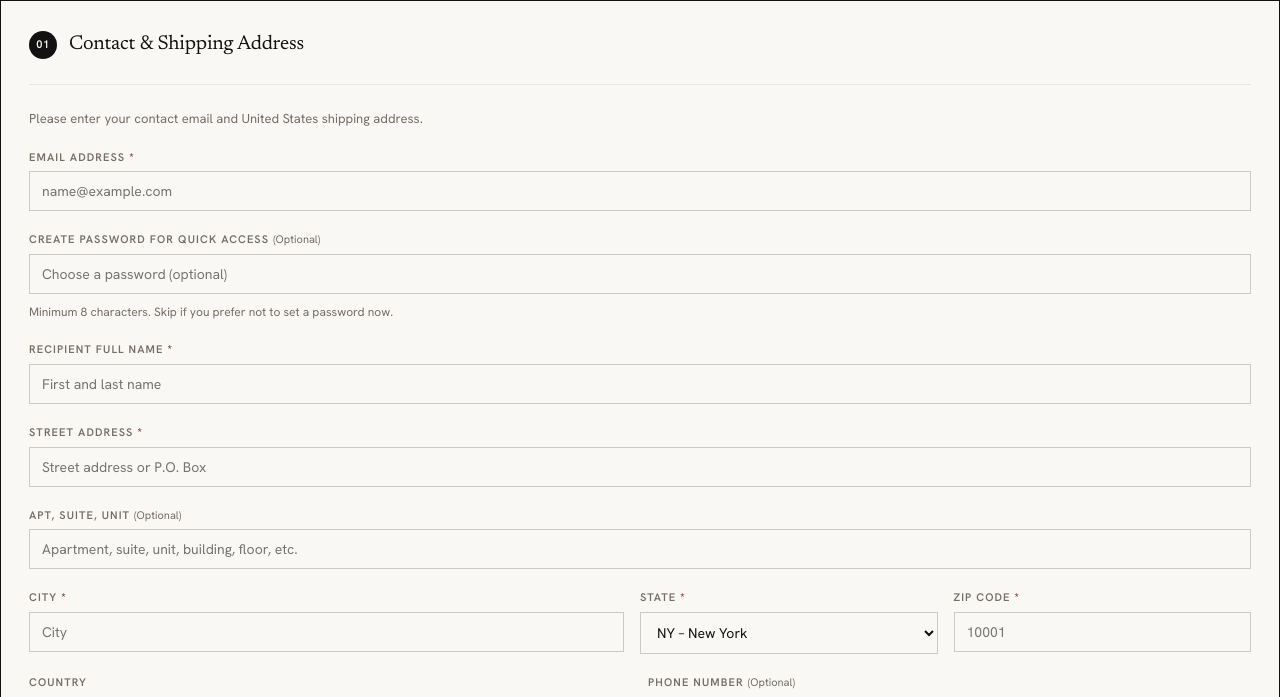
Test: ContactAndAddressForm › shows inline validation errors for invalid email and invalid ZIP
This screenshot has width=1280, height=697.
Type "invalid-email" into the field with test id "input-email". click: x=640, y=191
box: [29,171,1251,211]
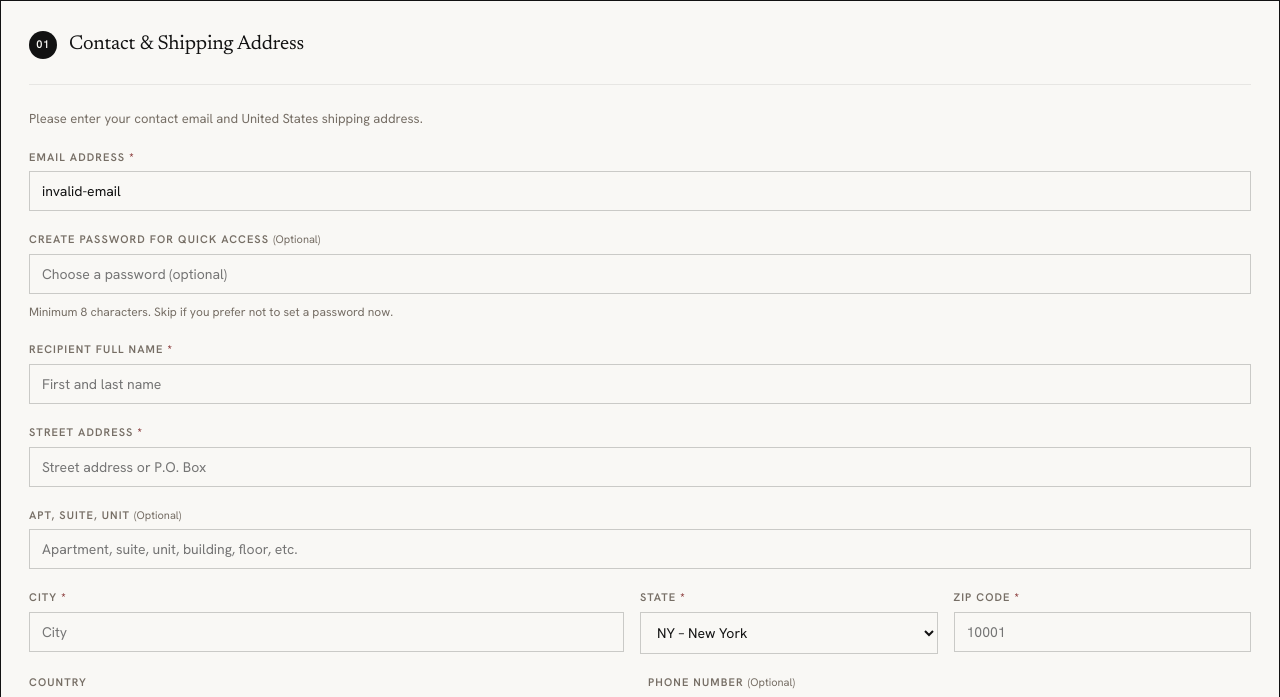
Type "Alexandra Vance" into the field with test id "input-recipient-name". click: x=640, y=384
box: [29,364,1251,404]
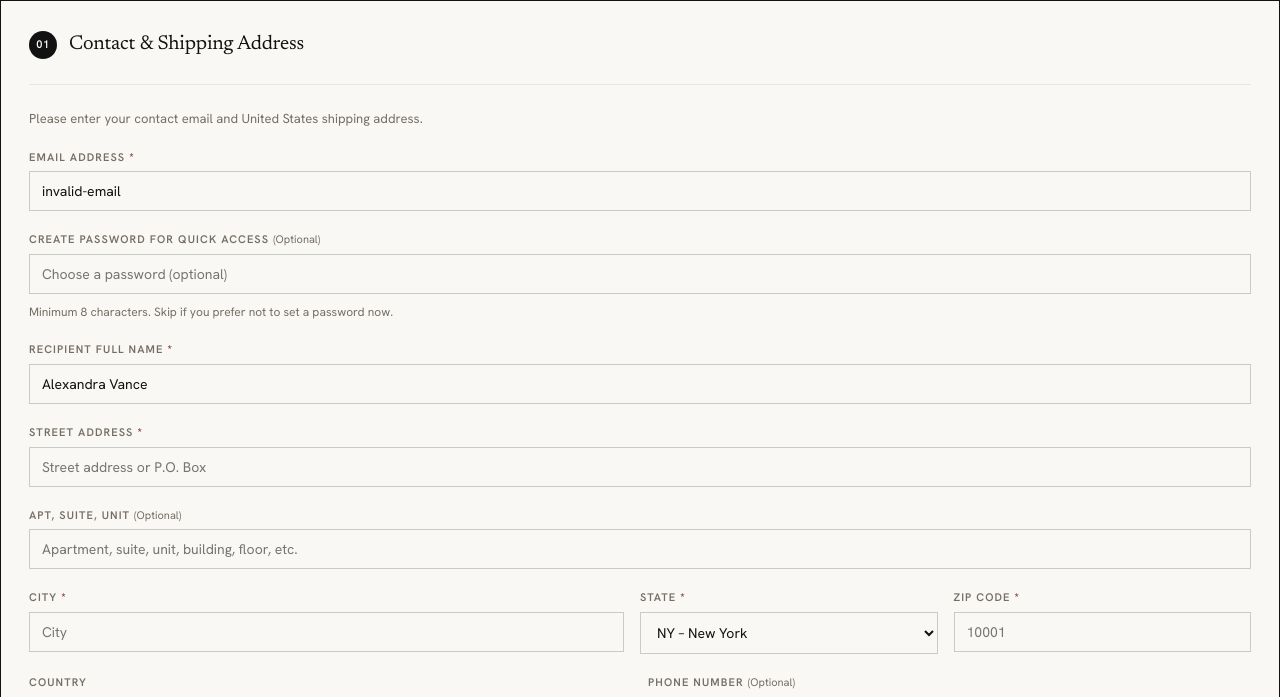
Type "123 Main St" into the field with test id "input-line1". click: x=640, y=467
box: [29,447,1251,487]
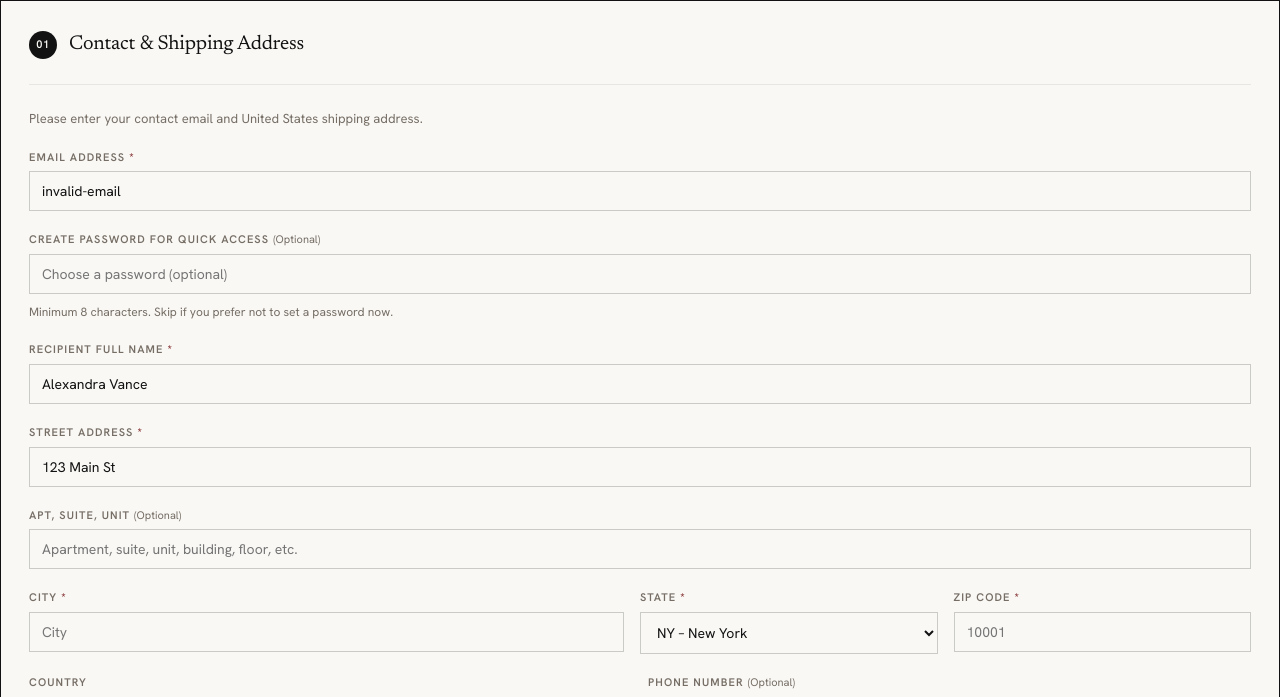
Type "New York" into the field with test id "input-city". click: x=326, y=632
box: [29,612,624,652]
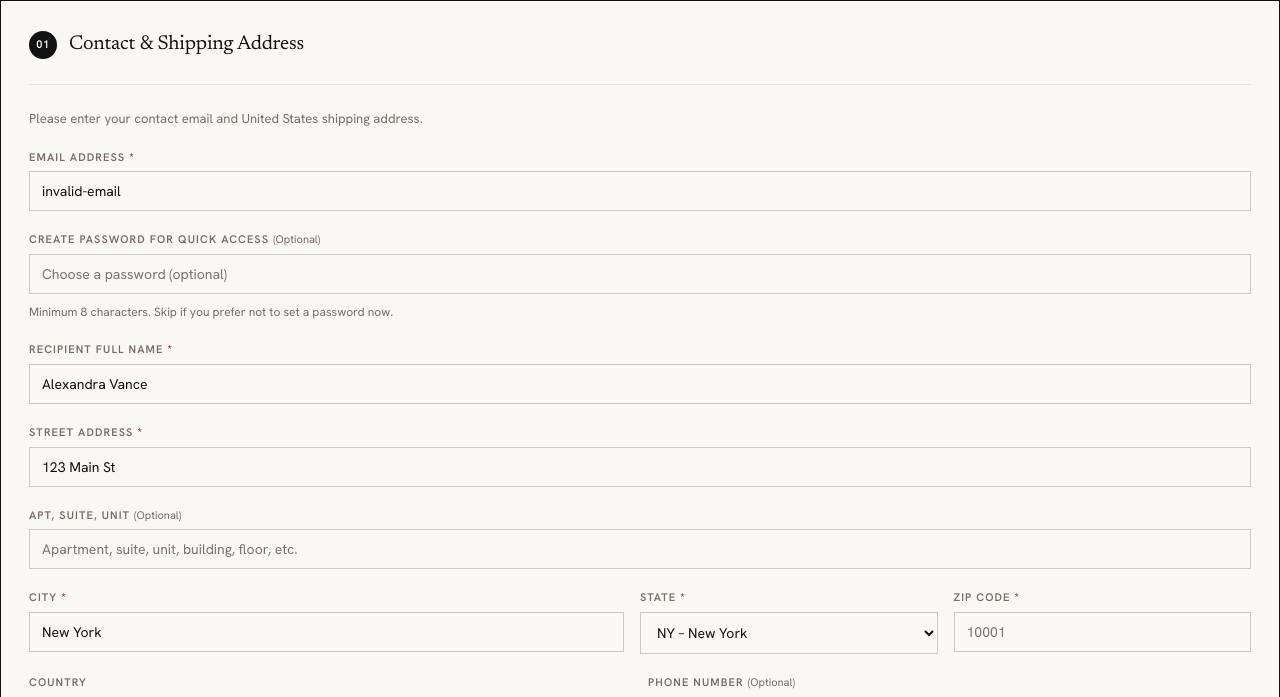
Type "abc" into the field with test id "input-zip". click: x=1102, y=632
box: [954,612,1251,652]
(page scrolled)
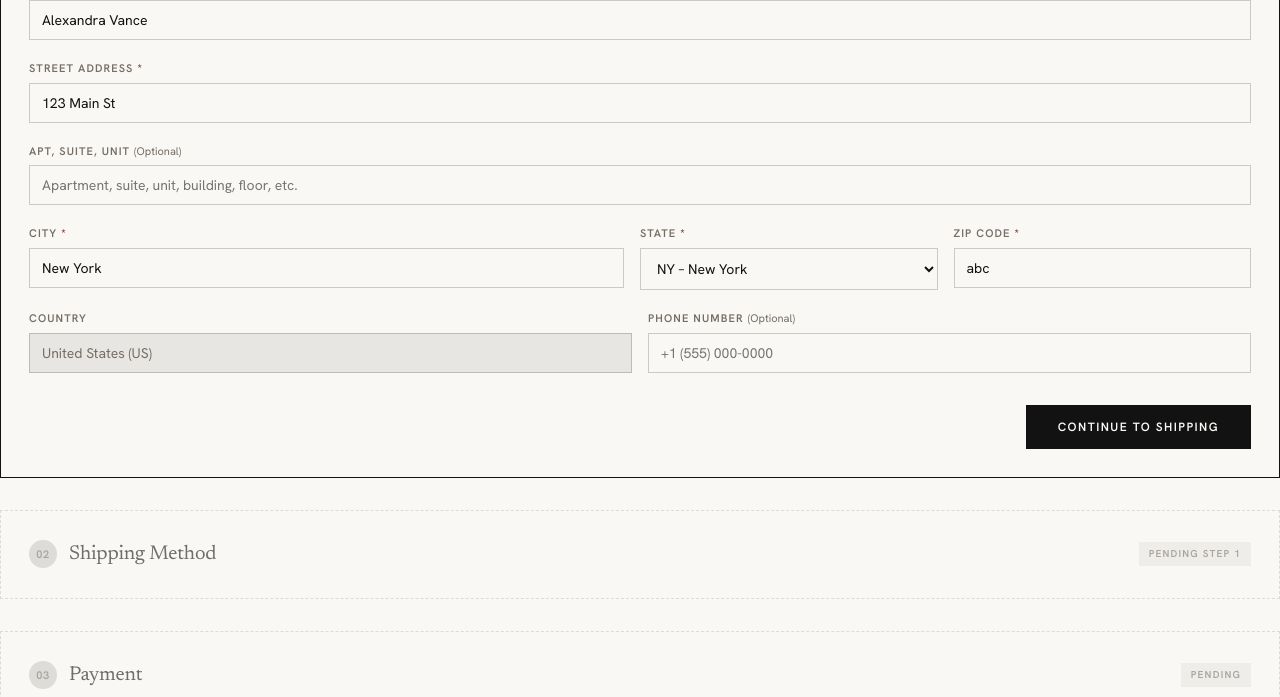
Click the button with test id "checkout-submit-address". click: x=1138, y=427
box: [1026,405,1251,449]
(page scrolled)
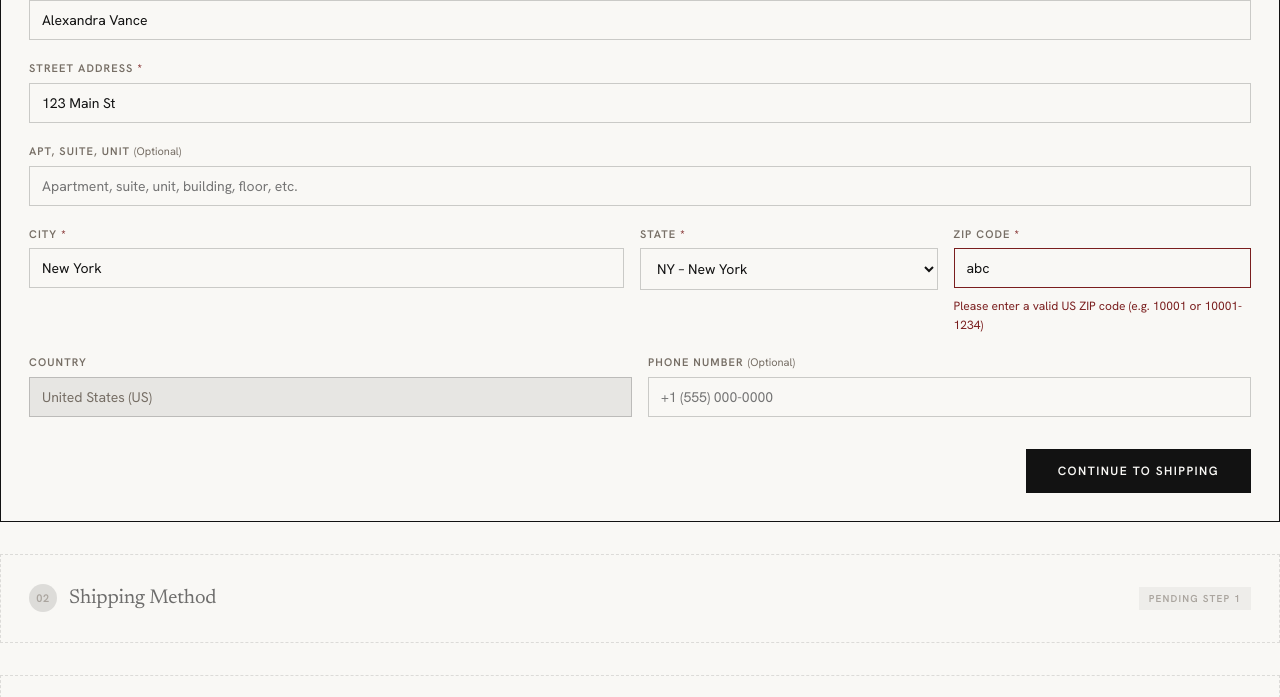
Now the message with test id "error-zip" reads "Please enter a valid US ZIP code (e.g. 10001 or 10001-1234)", box [954,298,1242,333]
